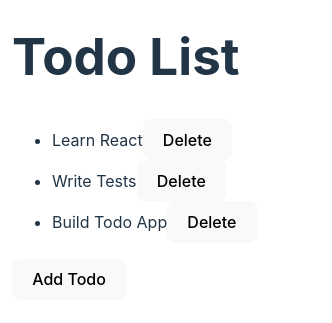
Test: TodoList Component › adds a new todo
This screenshot has width=332, height=323.
Click the button "Add Todo": (69, 279) top-left (12, 259), bottom-right (126, 300)
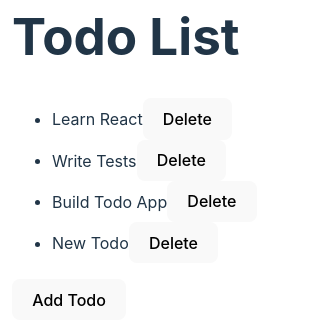
Result: the list item "New Todo" is shown at top-left (52, 233), bottom-right (129, 253)
